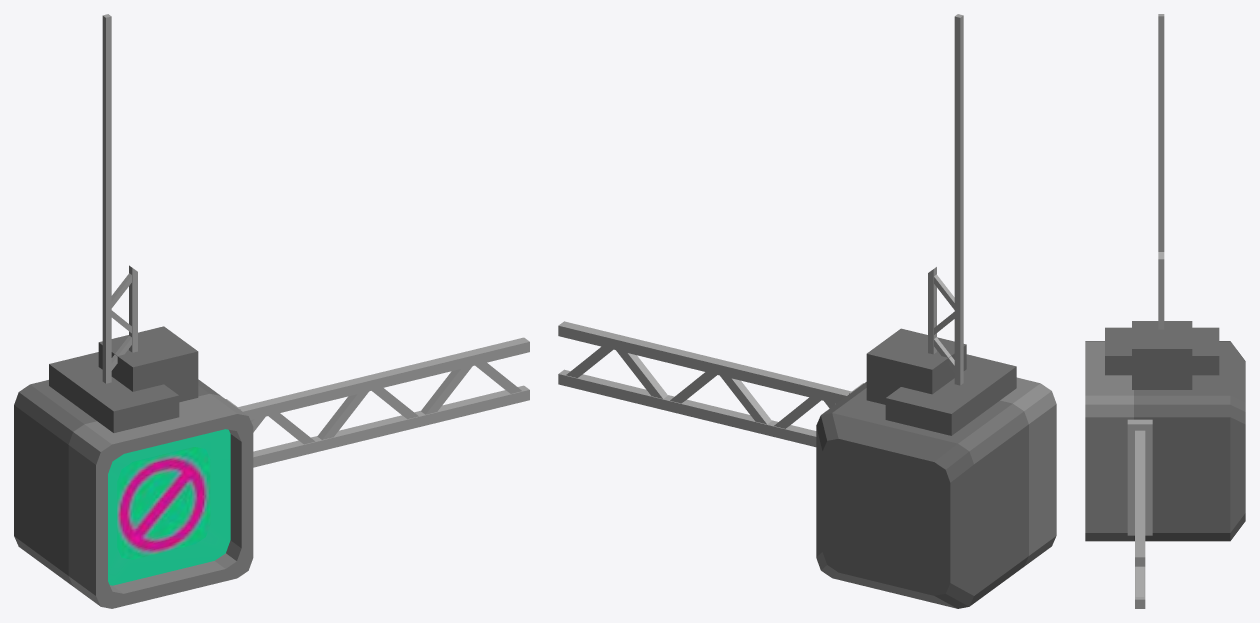
3 renders of one model, left to right at view 1: azimuth 30°, elevation 25°; view 2: azimuth 150°, elevation 25°; view 3: azimuth 270°, elevation 25°, orthographic. The views are drawn at different scales.
Visible parts, largest first — view 1: TV_1; view 2: TV_1; view 3: TV_1.
Part boxes in pixels (box(x1,y1,x2,y2)): TV_1: box(14, 14, 529, 608); TV_1: box(558, 14, 1056, 608); TV_1: box(1085, 14, 1245, 608).
Bounding box in the file's own units: 1.2 × 1.38 × 0.4096.
4 materials, 1 textured.
